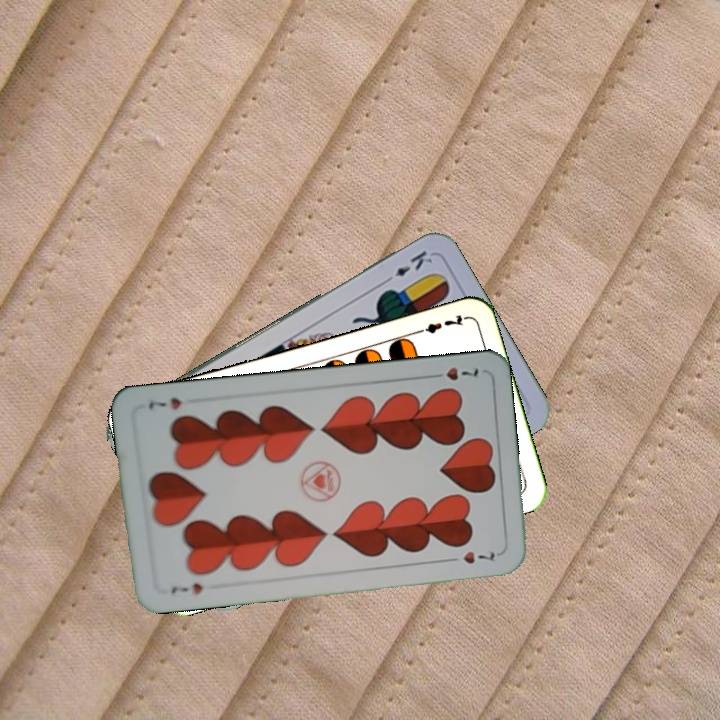E7: (410, 310, 468, 337)
EK: (379, 246, 435, 287)
H7: (425, 363, 484, 383), (167, 579, 205, 597)
